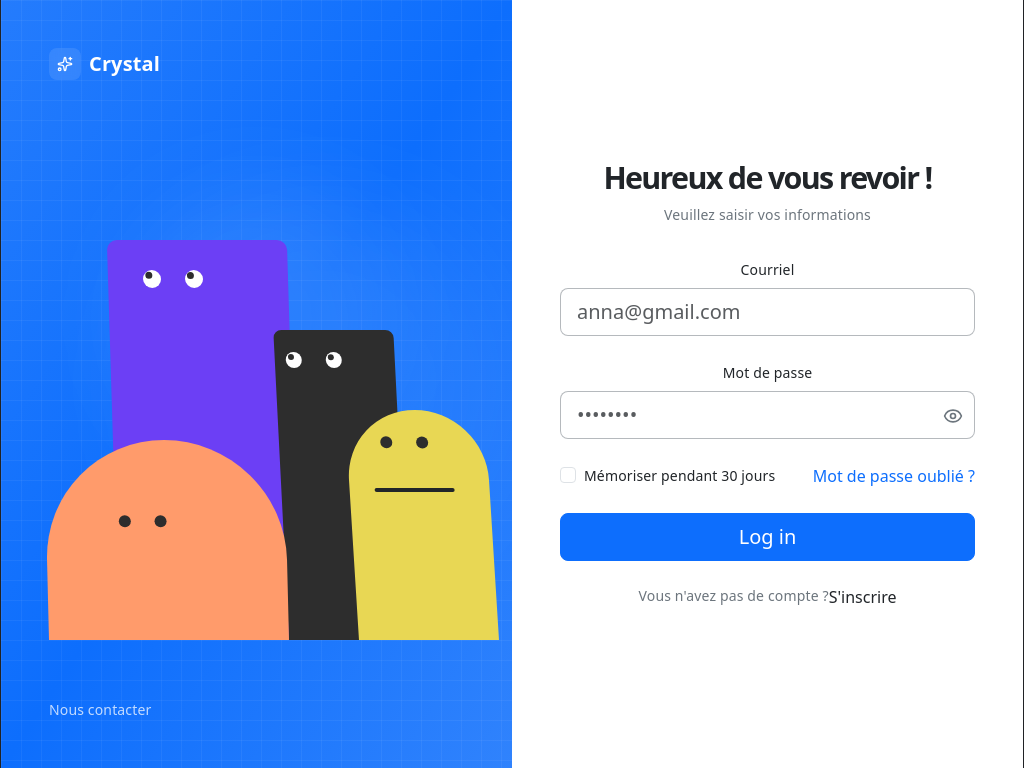
Test case: PageLogin (intégration UI) › affiche un message d'erreur lorsque l'API retourne une erreur
Type "a@b.ca" into the field labelled "Courriel" at [768, 312], box [560, 288, 975, 336]
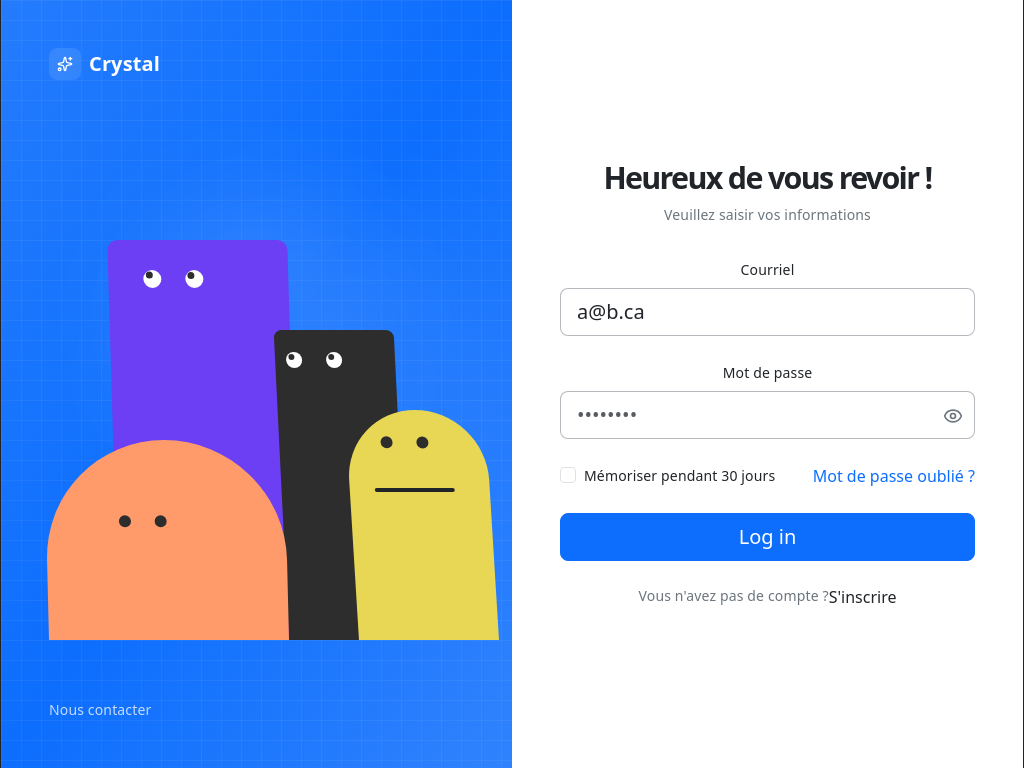
Type "wrong" into the password field labelled "Mot de passe" at [768, 415], box [560, 391, 975, 439]
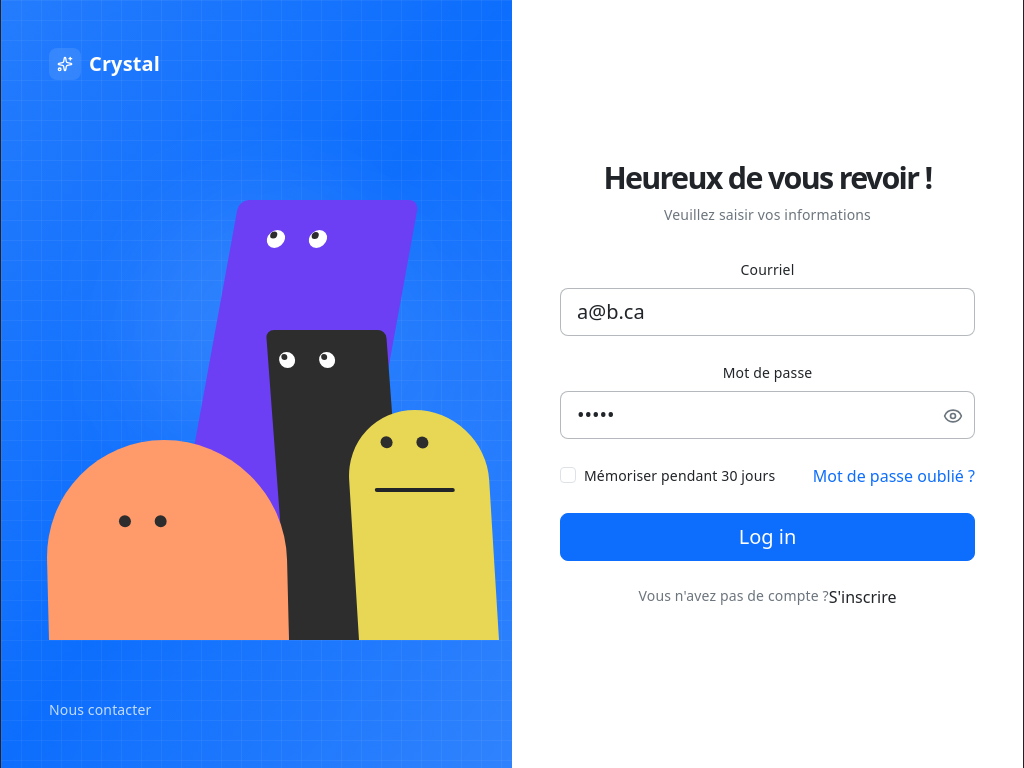
Click the button "Log in" at [768, 537], box [560, 513, 975, 561]
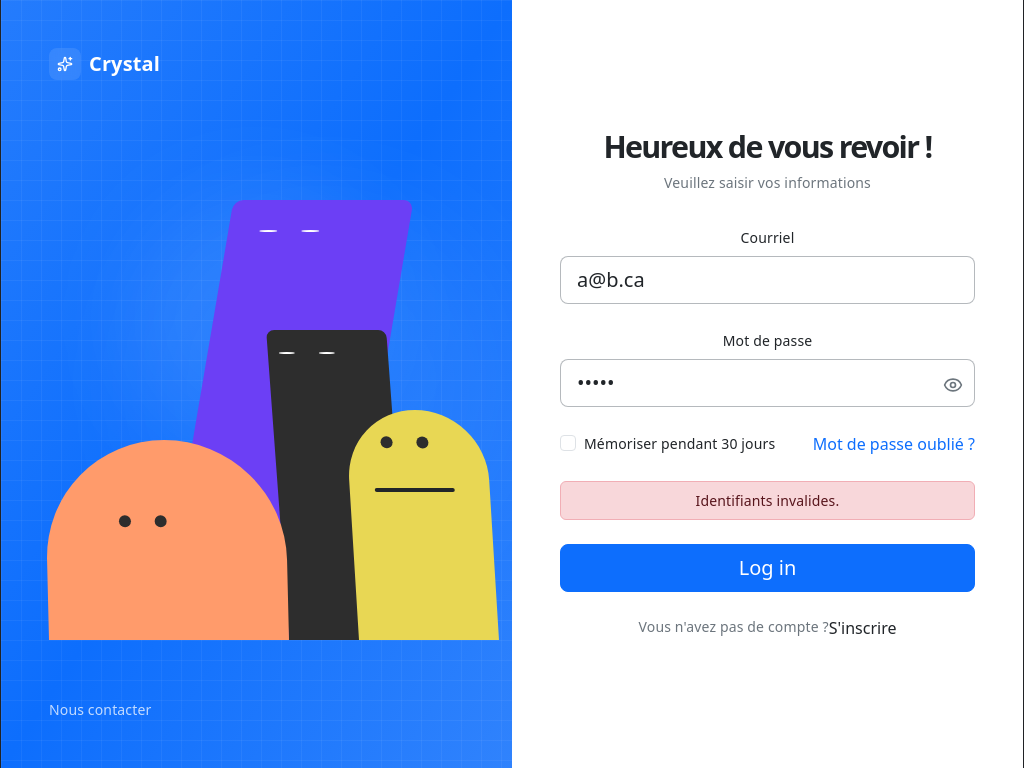
Expected: the message reads "Identifiants invalides.", [696, 491, 839, 510]
